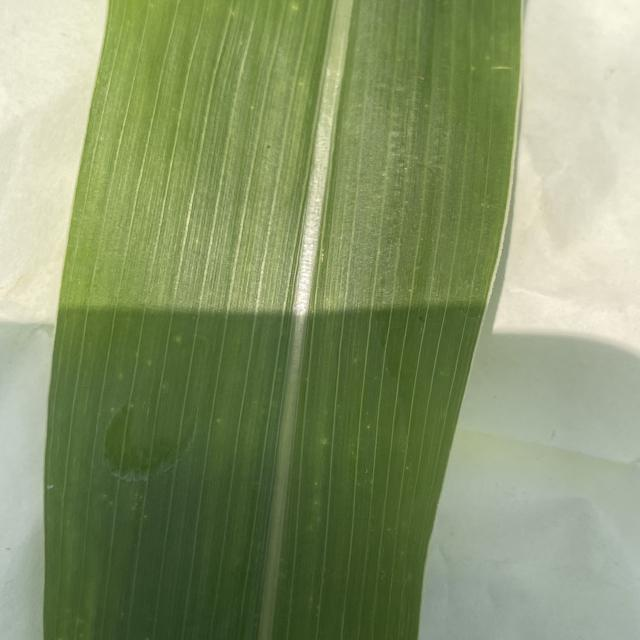millet_healthy: (40, 0, 525, 640)
